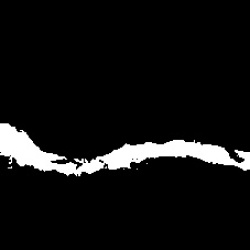crack: (2, 122, 248, 176)
